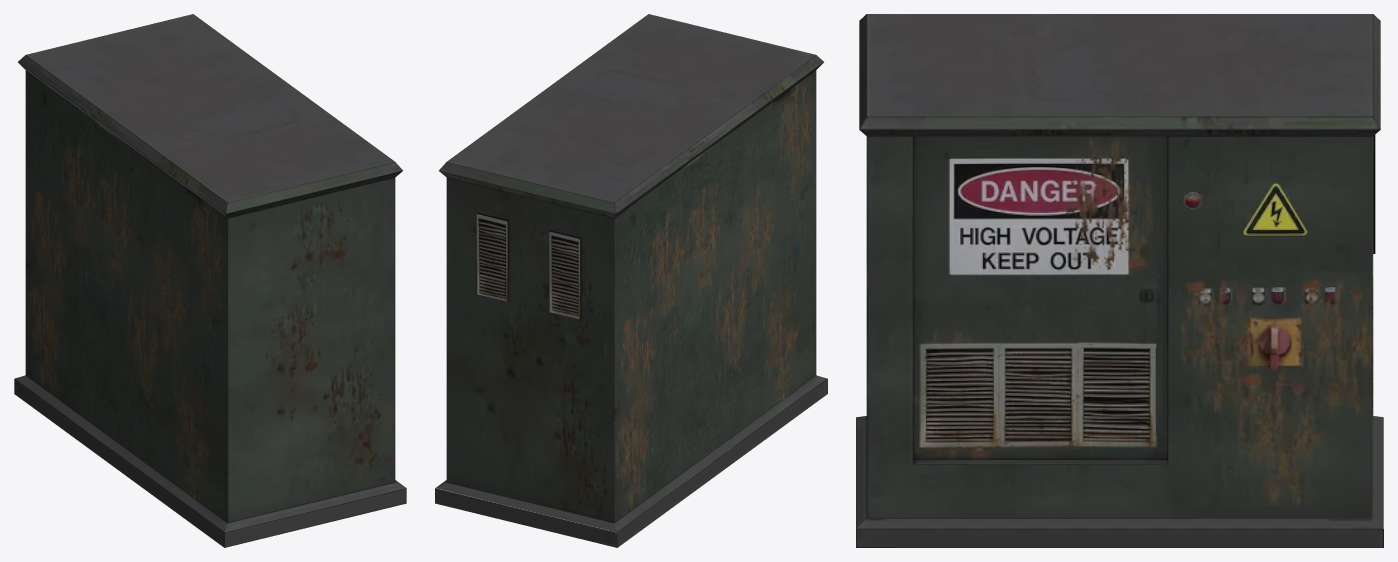
The model's file is power_box.glb.
The picture shows the model from 3 angles, left to right: view 1: azimuth 30°, elevation 25°; view 2: azimuth 150°, elevation 25°; view 3: azimuth 270°, elevation 25°; orthographic projection. The views are drawn at different scales.
Visible parts, largest first — view 1: Box003_Material_#2_0; view 2: Box003_Material_#2_0; view 3: Box003_Material_#2_0.
Part boxes in pixels (x1,y1,x2,y2): Box003_Material_#2_0: [14, 14, 406, 547]; Box003_Material_#2_0: [435, 14, 827, 547]; Box003_Material_#2_0: [856, 14, 1383, 547].
Bounding box in the file's own units: 2.5 × 4.46 × 5.
Materials: 1 (1 with a texture image).
